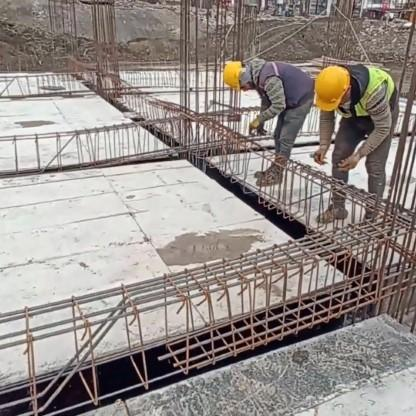helmet: (307, 66, 359, 119), (222, 53, 260, 97)
